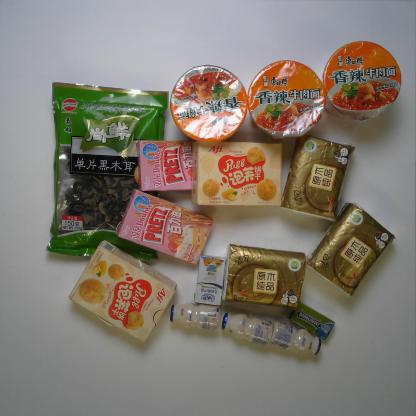Dessert: (68, 240, 178, 343), (118, 189, 214, 265), (190, 139, 284, 207), (134, 138, 233, 191)
Dried Food: (43, 81, 170, 267)
Gum: (290, 303, 335, 341)
Instant Noodles: (170, 65, 249, 144), (324, 42, 402, 122), (248, 60, 326, 140)
Milk: (191, 254, 226, 306), (271, 321, 322, 356), (221, 312, 273, 346), (170, 304, 222, 332)
Tissue: (305, 202, 397, 296), (282, 134, 356, 222), (223, 243, 304, 307)
